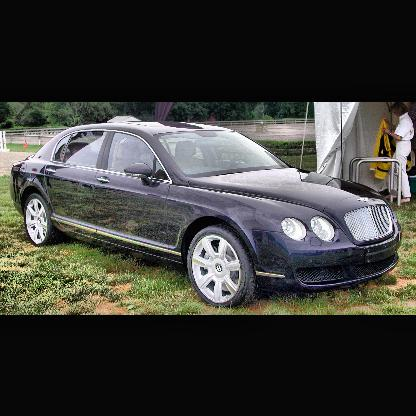Bentley Continental Flying Spur Sedan 2007: (9, 119, 401, 307)
